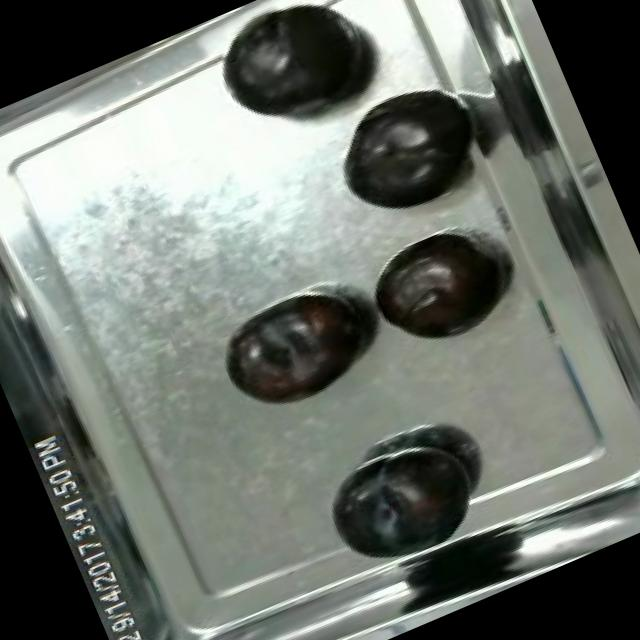Fruit: (315, 66, 499, 235), (308, 420, 495, 584), (202, 0, 394, 149), (206, 274, 382, 429), (360, 224, 516, 364)
